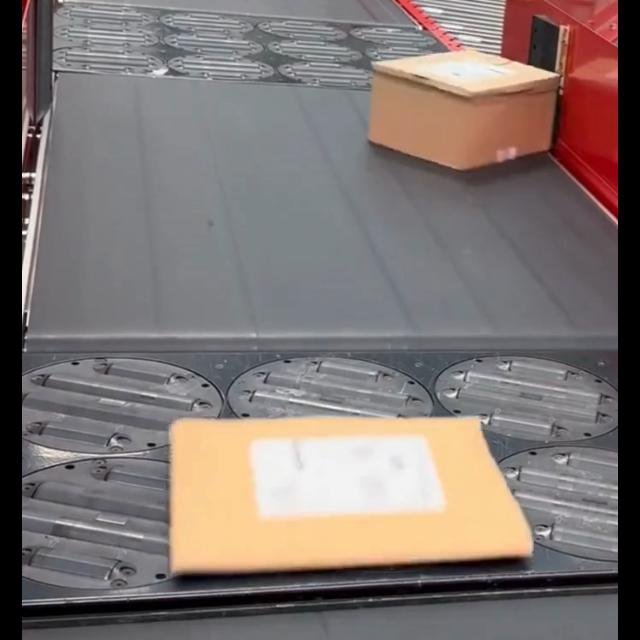box: (370, 48, 560, 178)
mailer: (169, 415, 537, 579)
